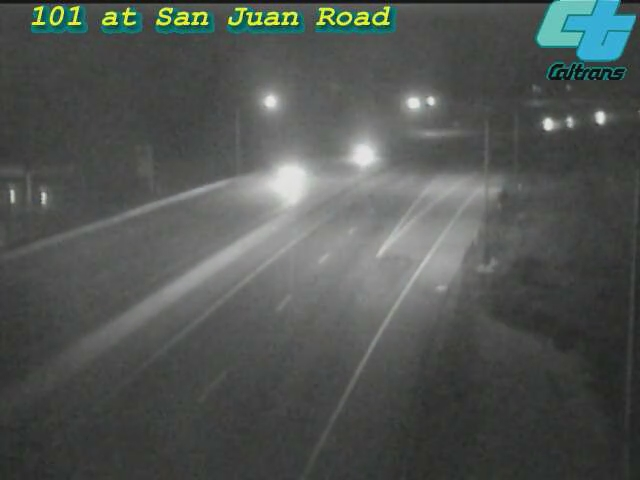vehicle: (249, 138, 329, 218), (349, 124, 399, 174), (571, 95, 621, 145), (544, 97, 594, 147), (518, 100, 568, 150)
